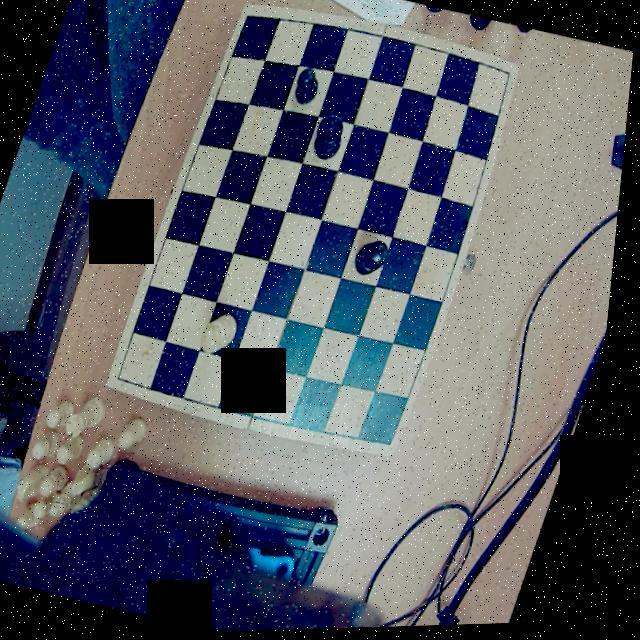chess-table-corners: (382, 428, 410, 458), (236, 3, 260, 36), (114, 366, 142, 394), (495, 62, 520, 88)
